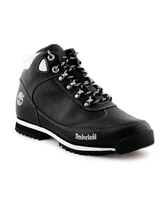shoes: (9, 41, 161, 157)
